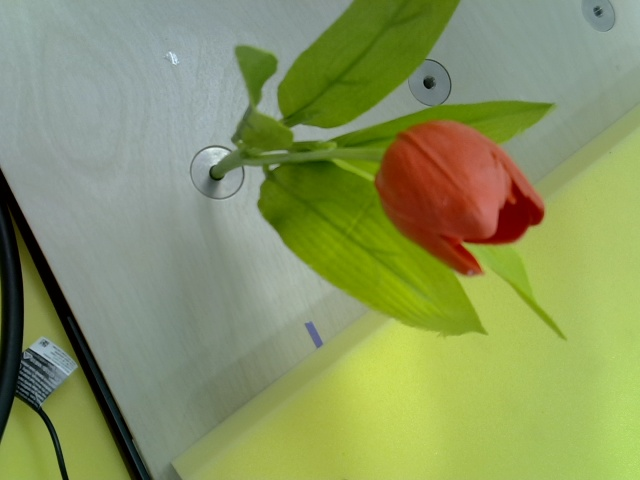튤립: (374, 119, 547, 276)
